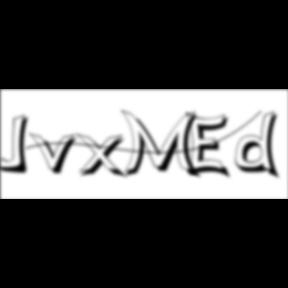E: (186, 110, 234, 182)
J: (1, 114, 36, 176)
M: (120, 108, 204, 181)
d: (235, 110, 285, 182)
v: (29, 131, 83, 177)
x: (76, 132, 132, 181)
